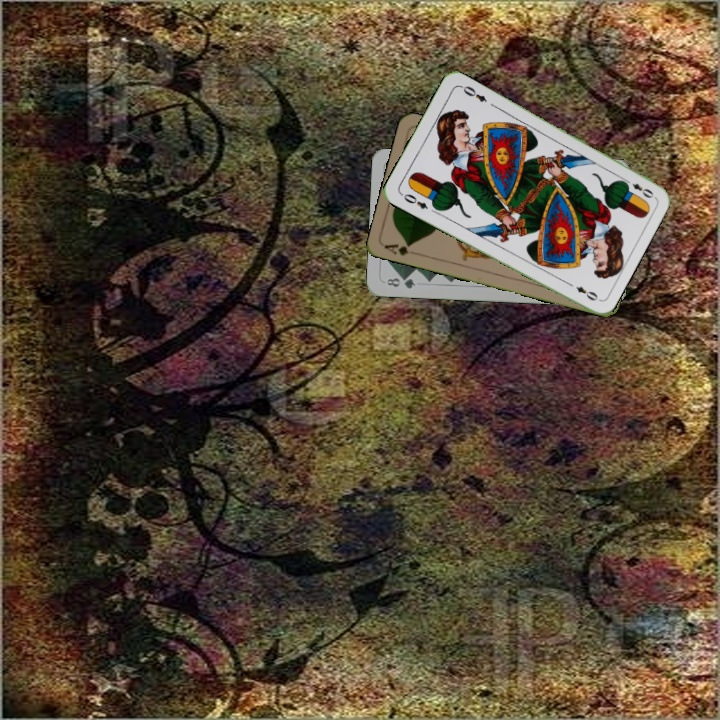EO: (619, 174, 656, 201), (397, 189, 430, 212)
G8: (383, 273, 418, 291)
GA: (381, 239, 414, 258)
